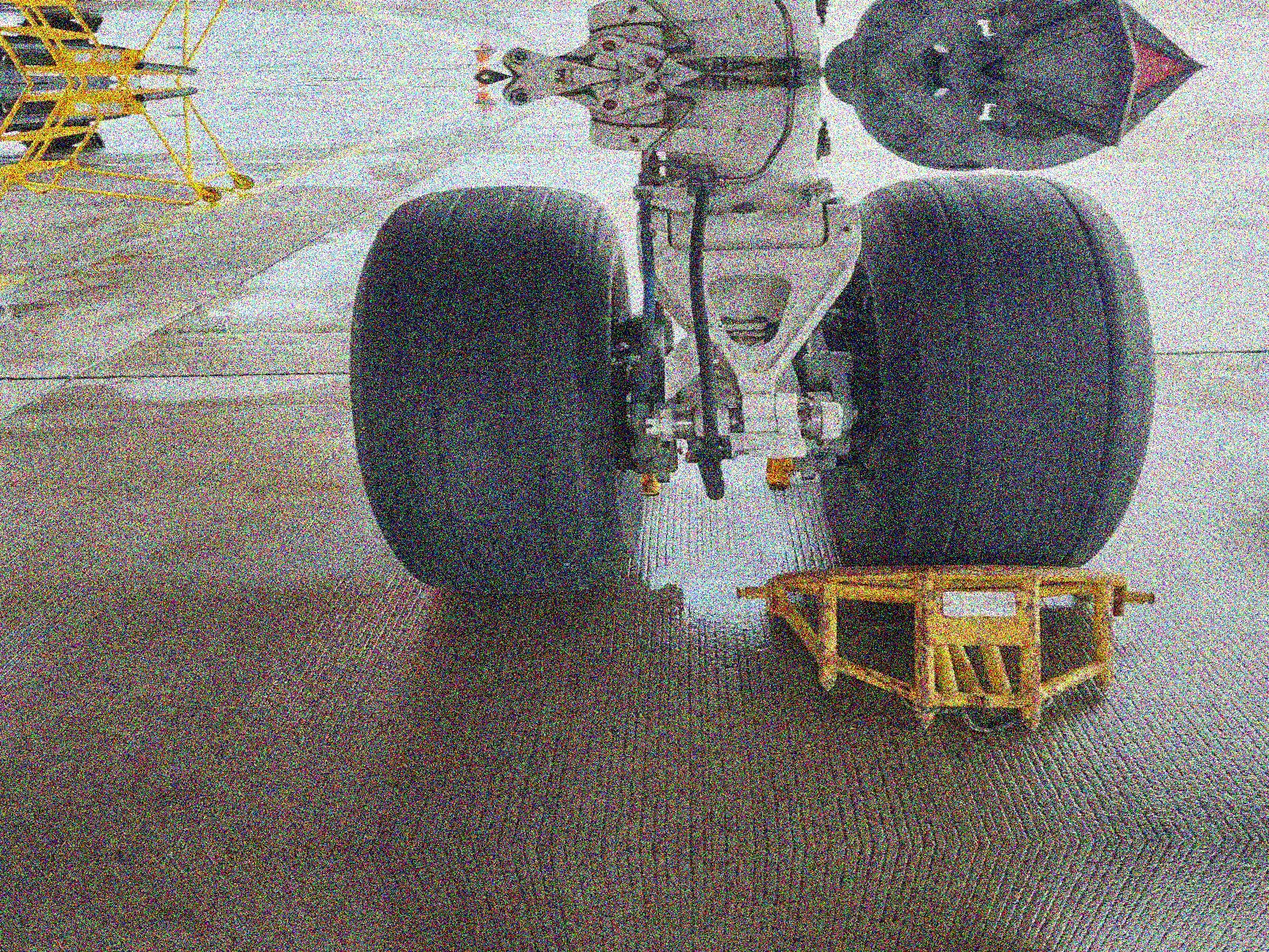chock: (731, 557, 1158, 738)
wheel: (820, 171, 1155, 565), (339, 180, 647, 605)
